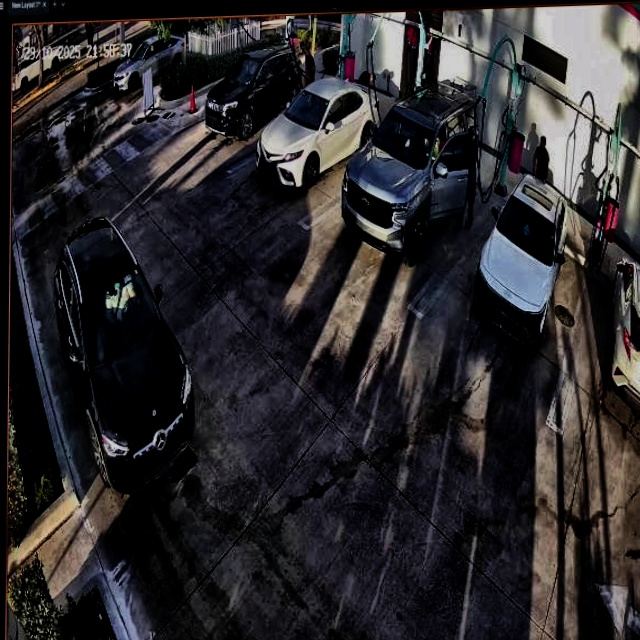Car: (52, 210, 196, 500), (340, 83, 481, 262), (475, 171, 569, 345), (257, 77, 377, 188)
